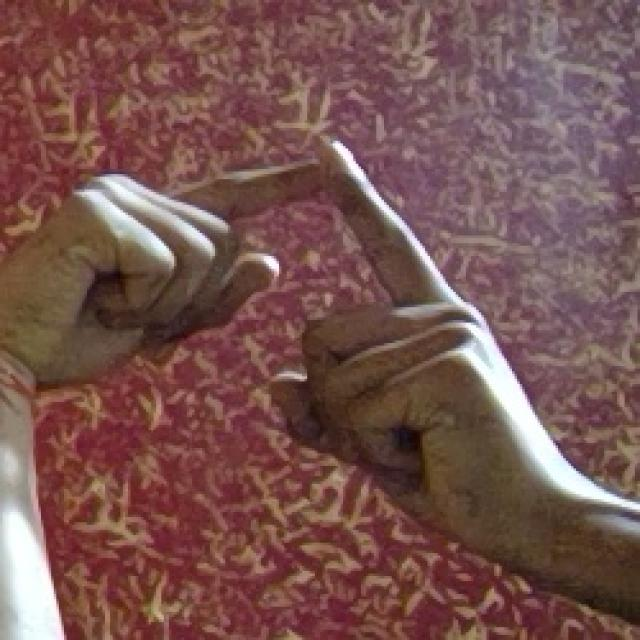Alphabet-E: (14, 141, 631, 541)
